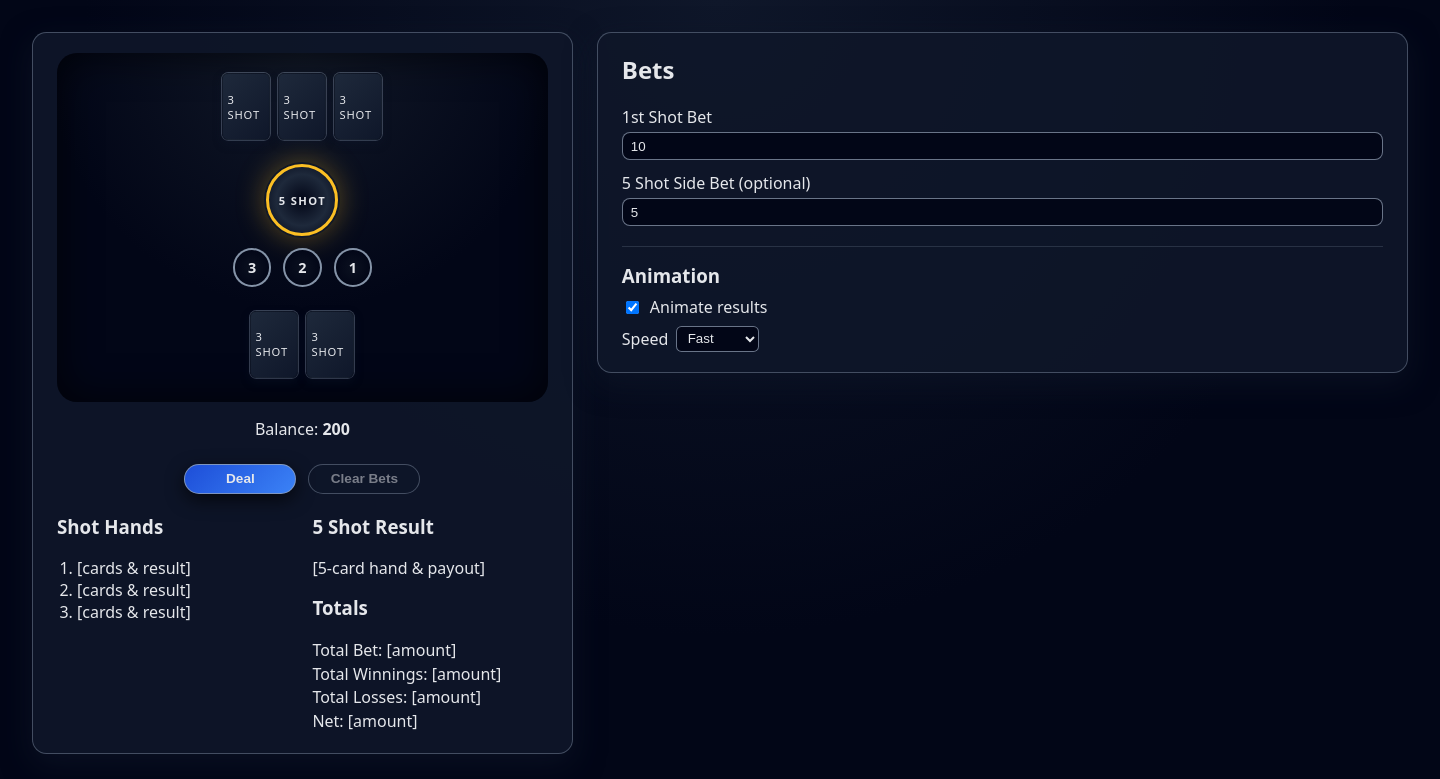
Test: GameLayout playing surface indicators › shows total bet amount right after deal
Click the button "Deal": (240, 479) 184,464 -> 296,494
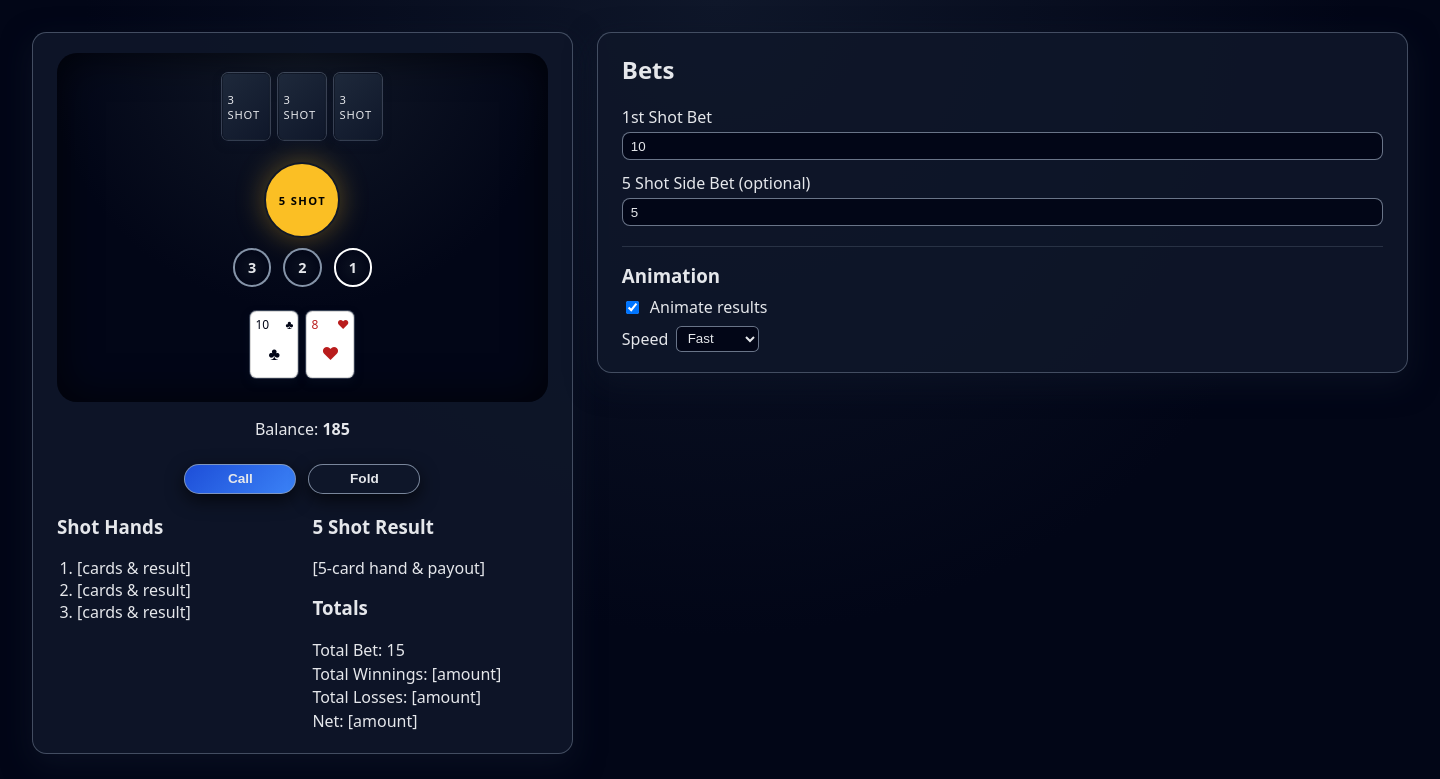
Result: the list item "Total Bet: 15" is shown at 312,639 -> 405,661
